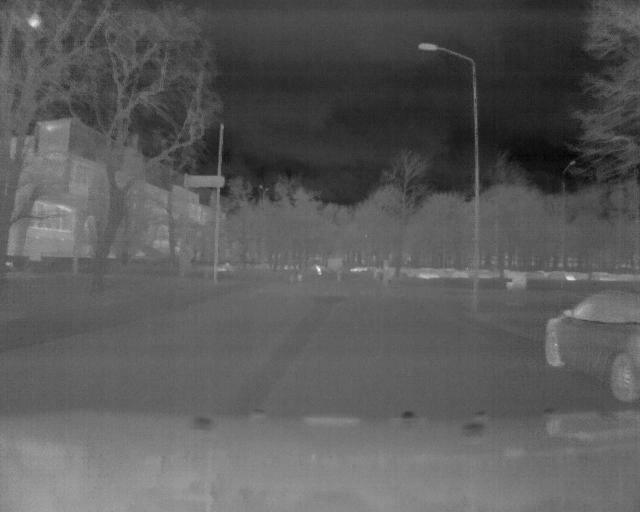car: (539, 281, 640, 400)
